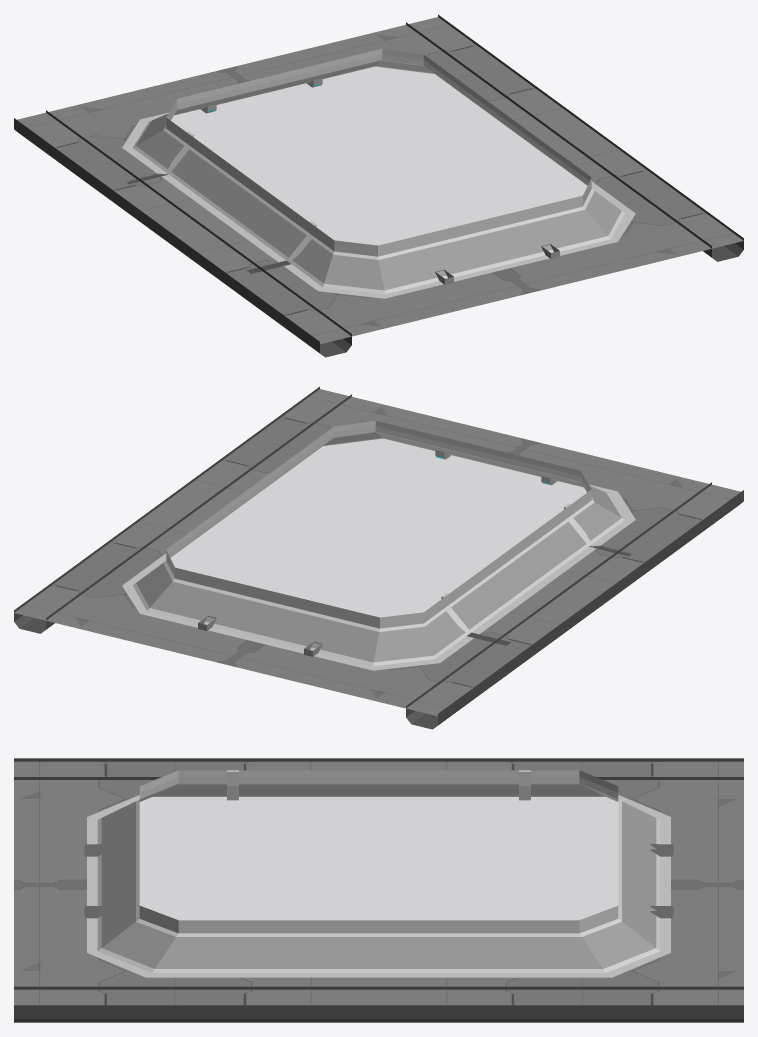
Rendered from SM_Ceiling_8x10_1.fbx.
The picture shows the model from 3 angles, top to bottom: view 1: azimuth 30°, elevation 25°; view 2: azimuth 150°, elevation 25°; view 3: azimuth 270°, elevation 25°; orthographic projection. The views are drawn at different scales.
Parts seen in each view (by area): view 1: SM_Ceiling_8x10_A; view 2: SM_Ceiling_8x10_A; view 3: SM_Ceiling_8x10_A.
Part boxes in pixels (bbox=[...]): SM_Ceiling_8x10_A: bbox=[14, 14, 743, 357]; SM_Ceiling_8x10_A: bbox=[14, 386, 743, 729]; SM_Ceiling_8x10_A: bbox=[14, 758, 743, 1022].
Size of the model in its own units: 800 by 86.12 by 1000.
